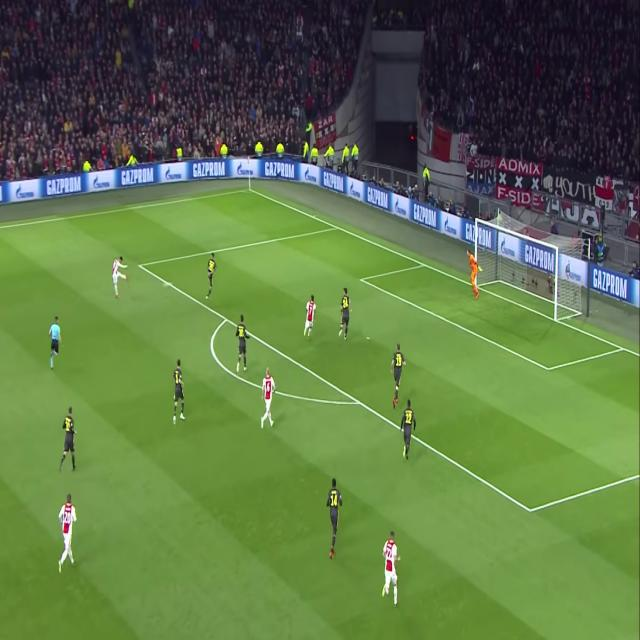Ball: (163, 277, 172, 291)
GoalKeeper: (467, 253, 481, 300)
TEAM 1: (58, 495, 77, 568), (382, 533, 401, 605), (260, 368, 276, 432), (112, 256, 130, 300), (305, 295, 319, 339)
TEAM 2: (325, 478, 341, 562), (60, 408, 77, 474), (400, 400, 416, 459), (173, 360, 187, 424), (392, 338, 405, 406), (338, 289, 351, 340), (236, 318, 248, 372), (205, 256, 216, 294)
